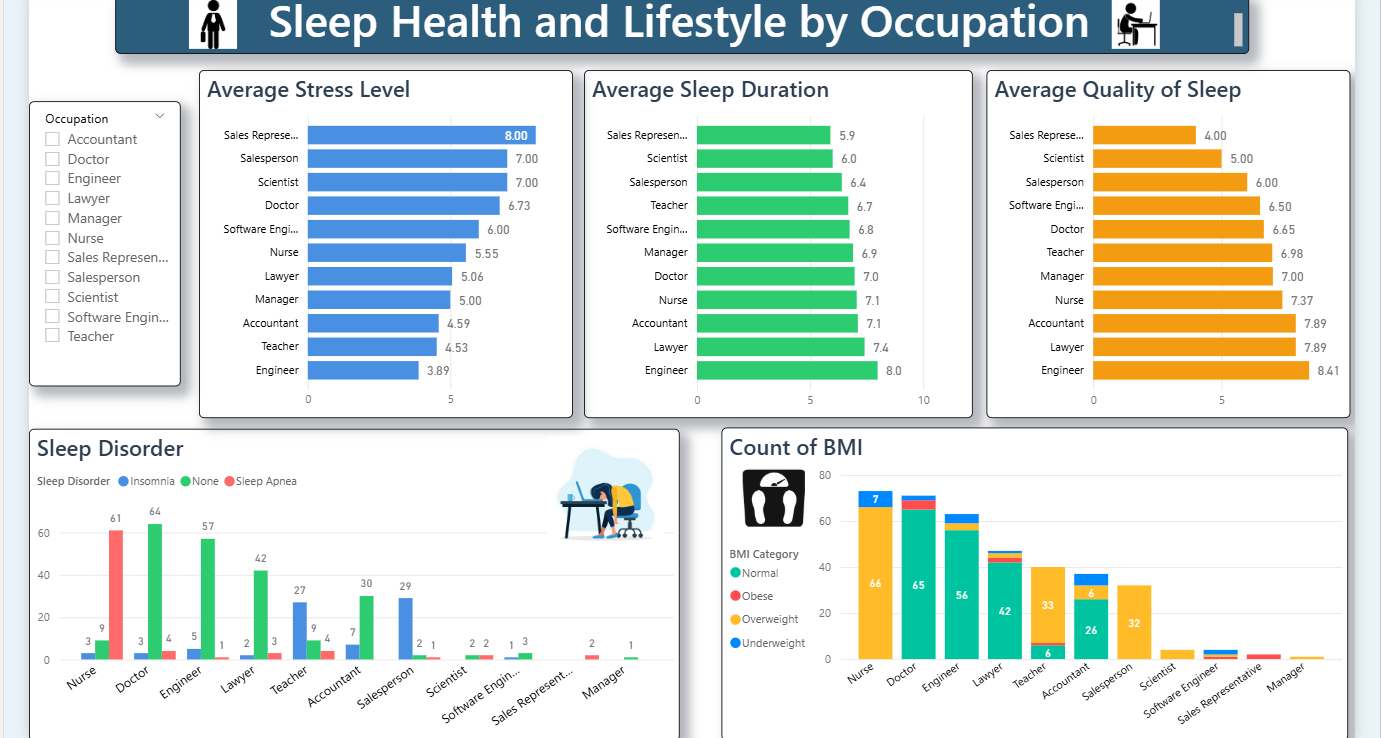

What the dashboard file says about the page in this screenshot:
{"tool":"powerbi","page":{"name":"Sleep Health Analysis by Occupation","canvas":[1280,720],"ordinal":2},"visuals":[{"type":"clusteredBarChart","title":"Average Sleep Duration","fields":{"Category":["By Occupation.Occupation"],"Y":["Avg(Occupation.Sleep Duration)"]},"box":[536.2,72.5,375,336.2],"z":0},{"type":"clusteredBarChart","title":"Average Quality of Sleep ","fields":{"Category":["By Occupation.Occupation"],"Y":["Avg(Occupation.Quality of Sleep)"]},"box":[923.8,72.5,351.2,336.2],"z":1000},{"type":"clusteredColumnChart","title":"Sleep Disorder ","fields":{"Category":["By Occupation.Occupation"],"Y":["CountNonNull(By Occupation.Sleep Disorder)"],"Series":["By Occupation.Sleep Disorder"]},"box":[0,418.1,628.3,301.9],"z":2000},{"type":"clusteredBarChart","title":"Average Stress Level","fields":{"Category":["By Occupation.Occupation"],"Y":["Avg(Occupation.Stress Level)"]},"box":[163.8,72.1,360.6,336.2],"z":3000},{"type":"columnChart","title":"Count of BMI","fields":{"Category":["By Occupation.Occupation"],"Y":["CountNonNull(By Occupation.BMI Category)"],"Series":["By Occupation.BMI Category"]},"box":[668.8,417.5,605,302.5],"z":4000},{"type":"textbox","box":[83.2,0,1094.2,56.7],"z":5000},{"type":"image","box":[1017,0,102.5,56.7],"z":6000},{"type":"image","box":[486.5,420.5,140.6,123.5],"z":7000},{"type":"image","box":[684.6,435.2,69.7,99],"z":8000},{"type":"image","box":[147.2,0,60.3,56.7],"z":9000},{"type":"slicer","fields":{"Values":["Occupation.Occupation"]},"box":[0,102.7,146.7,275],"z":10000}]}

Visuals, with their boxes in screenshot pixels (x1, y1, x2, y2):
"Average Sleep Duration" clusteredBarChart: 579, 65, 972, 417
"Average Quality of Sleep " clusteredBarChart: 985, 65, 1353, 417
"Sleep Disorder " clusteredColumnChart: 18, 427, 676, 737
"Average Stress Level" clusteredBarChart: 189, 65, 567, 417
"Count of BMI" columnChart: 718, 426, 1352, 737
textbox: 105, 0, 1251, 49
image: 1083, 0, 1190, 49
image: 527, 429, 675, 559
image: 735, 445, 808, 548
image: 172, 0, 235, 49
slicer - Occupation.Occupation: 18, 97, 172, 385
